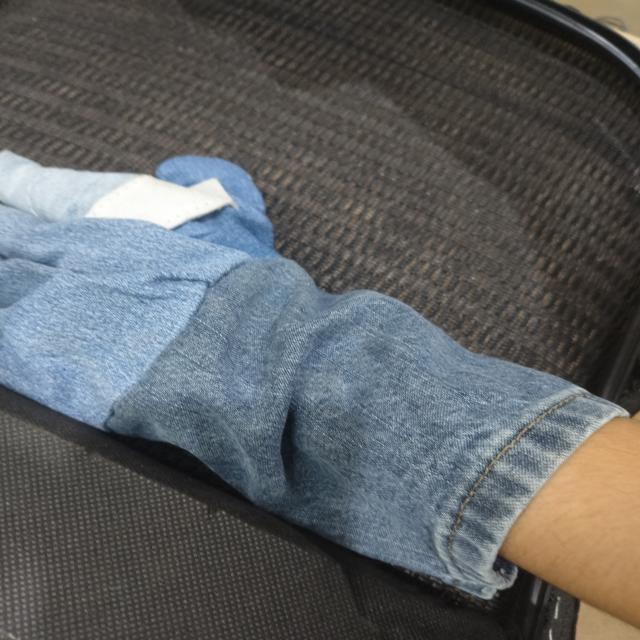Gloves-Detection: (24, 135, 610, 572)
